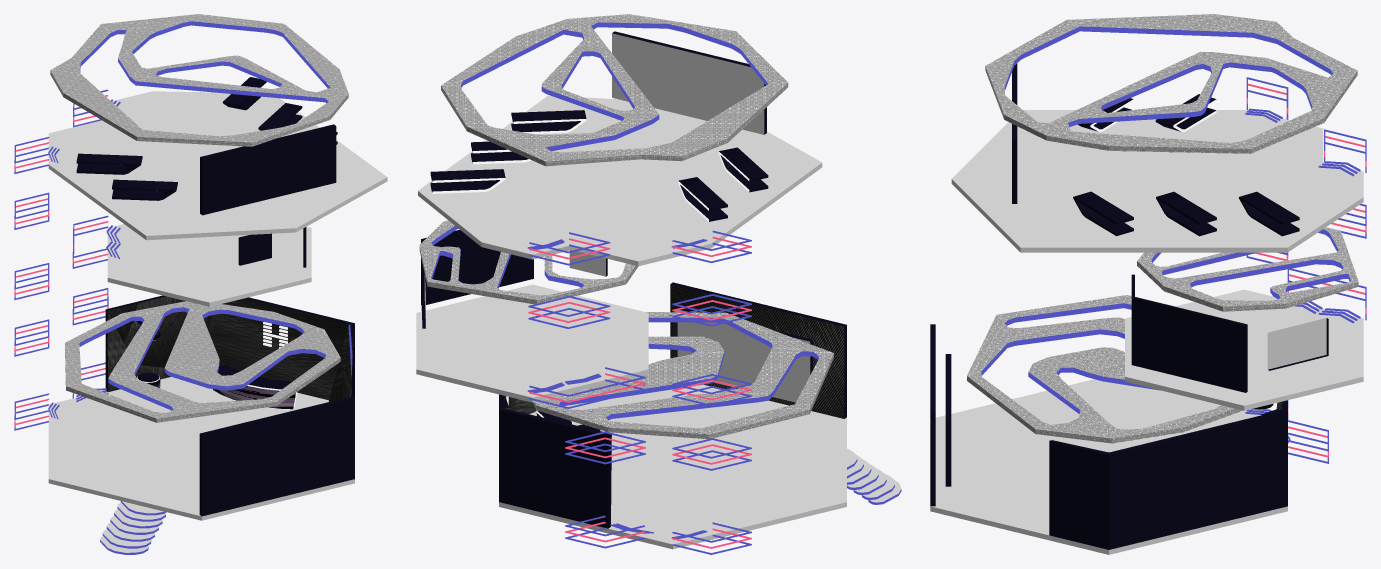
Rendered from hww_base_10_alternate9_edit.glb.
The picture shows the model from 3 angles, left to right: view 1: azimuth 30°, elevation 25°; view 2: azimuth 150°, elevation 25°; view 3: azimuth 270°, elevation 25°; orthographic projection. The views are drawn at different scales.
Visible parts, largest first — view 1: lobby_base, ceiling, walls_back, walls_front, screen_frames, lobby_cove_lights, props_surface, lift_neon_purple, lift_neon_pink, steps_neon_purple, props_table, lift_ramp_lights; view 2: lobby_base, ceiling, walls_back, expo_video_display, lift_neon_purple, lobby_cove_lights, props_surface, walls_front, screen_frames, lobby_video_display, lift_neon_pink, expo_table_glowy (+2 smaller); view 3: lobby_base, ceiling, walls_back, screen_frames, lobby_cove_lights, props_surface, museum_NFT_display002, lift_neon_purple, lift_ramp_lights, lift_neon_pink.
Boxes of the visible parts, left/top/right/bottom form: lobby_base: left=48, top=91, right=387, bottom=552; ceiling: left=50, top=14, right=348, bottom=422; walls_back: left=105, top=295, right=354, bottom=516; walls_front: left=107, top=296, right=352, bottom=401; screen_frames: left=200, top=124, right=336, bottom=267; lobby_cove_lights: left=77, top=21, right=352, bottom=410; props_surface: left=76, top=77, right=337, bottom=389; lift_neon_purple: left=14, top=89, right=108, bottom=430; lift_neon_pink: left=14, top=95, right=108, bottom=425; steps_neon_purple: left=100, top=501, right=166, bottom=554; props_table: left=213, top=386, right=295, bottom=409; lift_ramp_lights: left=48, top=99, right=120, bottom=419; lobby_base: left=416, top=95, right=901, bottom=549; ceiling: left=419, top=14, right=833, bottom=439; walls_back: left=499, top=282, right=846, bottom=528; expo_video_display: left=612, top=33, right=764, bottom=134; lift_neon_purple: left=528, top=230, right=751, bottom=554; lobby_cove_lights: left=431, top=22, right=819, bottom=420; props_surface: left=430, top=110, right=768, bottom=430; walls_front: left=504, top=284, right=844, bottom=418; screen_frames: left=421, top=31, right=812, bottom=374; lobby_video_display: left=677, top=310, right=810, bottom=402; lift_neon_pink: left=528, top=236, right=751, bottom=548; expo_table_glowy: left=432, top=119, right=749, bottom=221; lobby_base: left=930, top=110, right=1363, bottom=554; ceiling: left=967, top=14, right=1358, bottom=443; walls_back: left=930, top=324, right=1287, bottom=549; screen_frames: left=945, top=63, right=1328, bottom=486; lobby_cove_lights: left=981, top=26, right=1350, bottom=452; props_surface: left=1073, top=94, right=1299, bottom=236; museum_NFT_display002: left=1267, top=318, right=1326, bottom=369; lift_neon_purple: left=1246, top=77, right=1366, bottom=463; lift_ramp_lights: left=1245, top=108, right=1360, bottom=443; lift_neon_pink: left=1246, top=83, right=1366, bottom=457.
Size of what is drawn, in the model's own units: 15.71 by 17.47 by 15.86.
Materials: 7 (3 with a texture image).
